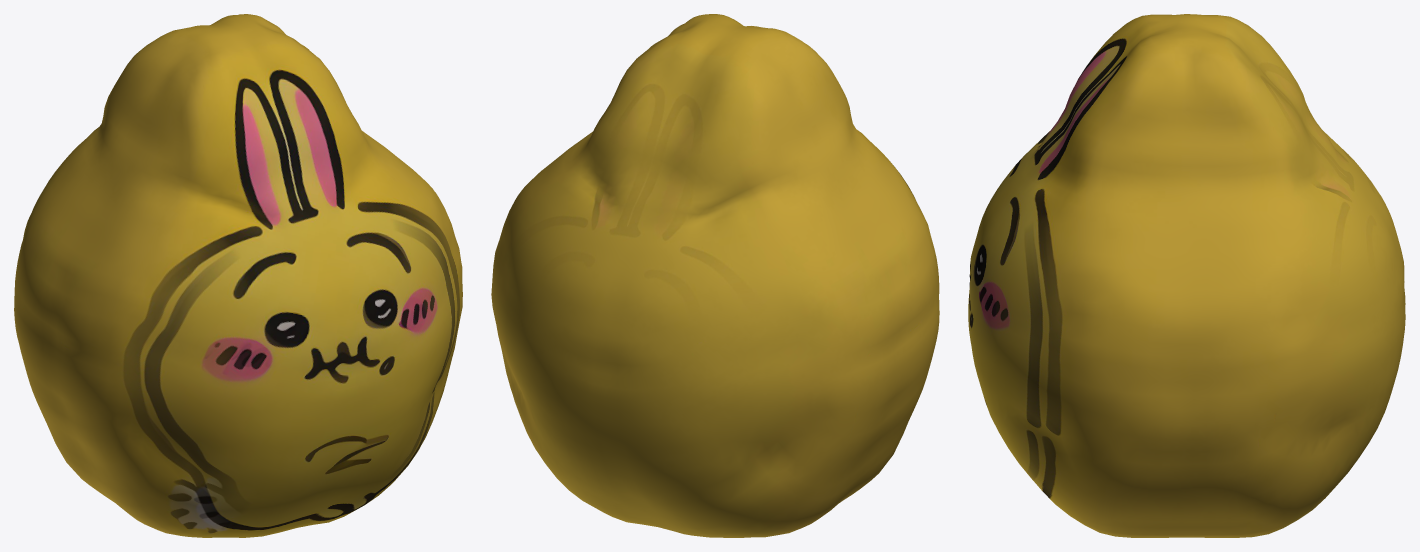
The model's file is usagi.glb.
The picture shows the model from 3 angles, left to right: view 1: azimuth 30°, elevation 25°; view 2: azimuth 150°, elevation 25°; view 3: azimuth 270°, elevation 25°; orthographic projection.
Visible parts, largest first — view 1: tripo_node_3b043998; view 2: tripo_node_3b043998; view 3: tripo_node_3b043998.
Boxes of the visible parts, <box> form: tripo_node_3b043998: <box>14,14,462,537</box>; tripo_node_3b043998: <box>491,14,939,537</box>; tripo_node_3b043998: <box>968,14,1405,537</box>.
Bounding box in the file's own units: 82.84 × 99.97 × 83.35.
1 material, 1 textured.
